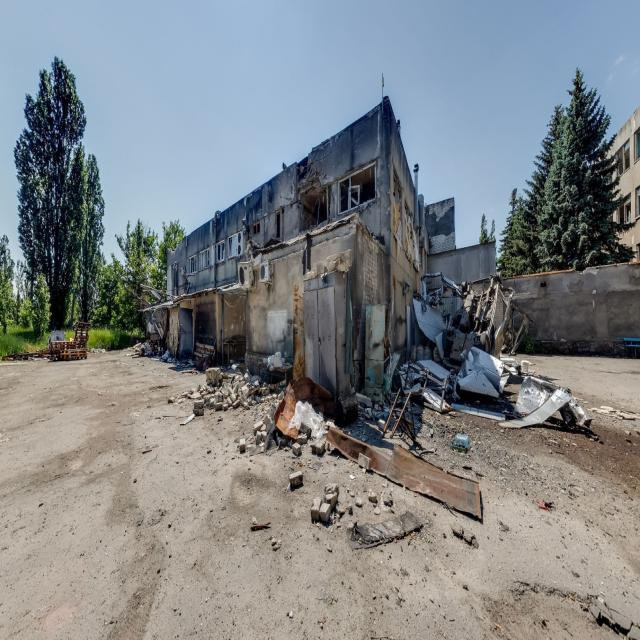broken_window: (228, 230, 243, 258), (199, 247, 210, 271), (217, 240, 224, 263), (188, 254, 196, 274), (275, 212, 280, 240), (253, 224, 259, 236)
building: (166, 96, 497, 410)
damage: (292, 245, 353, 407), (353, 225, 392, 403), (393, 169, 420, 273), (339, 161, 378, 214), (299, 180, 332, 233), (295, 152, 309, 196), (305, 165, 328, 191), (238, 261, 256, 290), (168, 240, 181, 256)
other: (8, 0, 640, 640)
